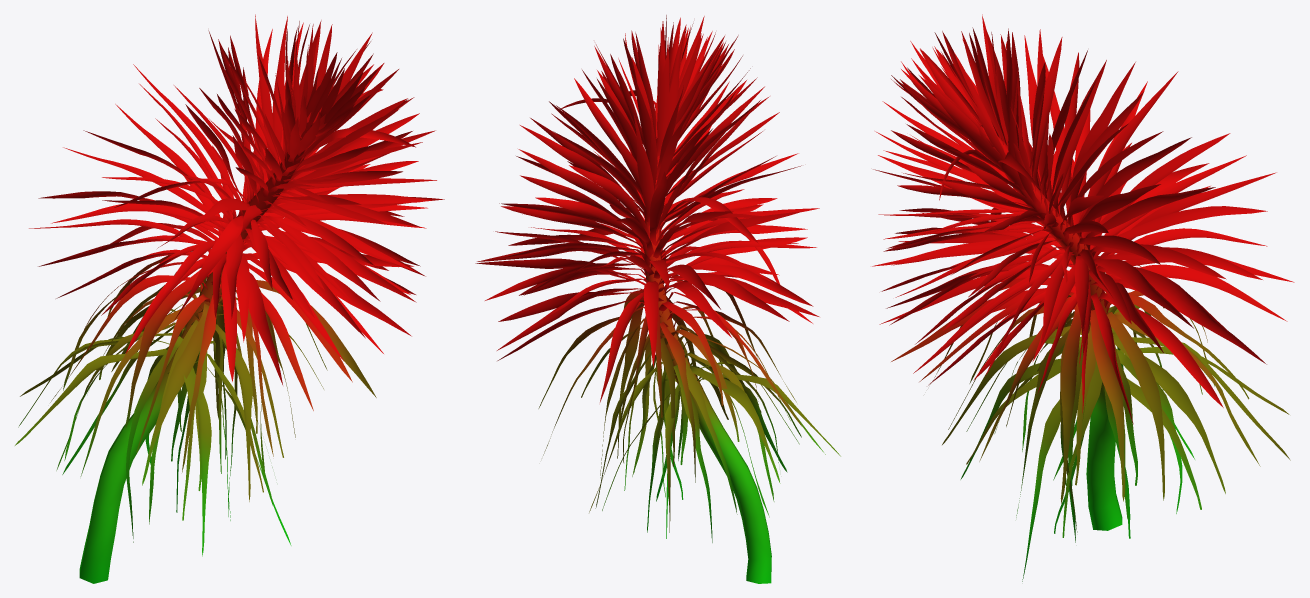
File: Var5_LOD2.fbx
The picture shows the model from 3 angles, left to right: view 1: azimuth 30°, elevation 25°; view 2: azimuth 150°, elevation 25°; view 3: azimuth 270°, elevation 25°; orthographic projection. The views are drawn at different scales.
Parts seen in each view (by area): view 1: _643b_Var5_LOD2; view 2: _643b_Var5_LOD2; view 3: _643b_Var5_LOD2.
Part boxes in pixels (x1,y1,x2,y2): _643b_Var5_LOD2: (15,14,444,583); _643b_Var5_LOD2: (475,15,840,583); _643b_Var5_LOD2: (872,14,1294,581).
Bounding box in the file's own units: 103 × 140 × 92.94.
